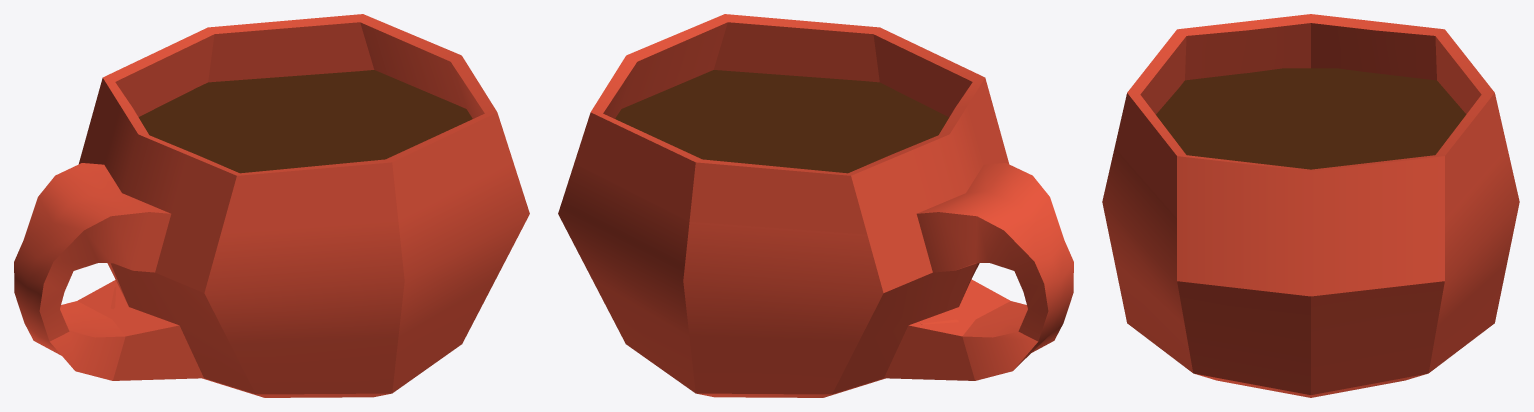
The model's file is (p) Red Coffee mug.fbx.
The picture shows the model from 3 angles, left to right: view 1: azimuth 30°, elevation 25°; view 2: azimuth 150°, elevation 25°; view 3: azimuth 270°, elevation 25°; orthographic projection.
Parts seen in each view (by area): view 1: Red Cup; view 2: Red Cup; view 3: Red Cup.
Boxes of the visible parts, <box> form: Red Cup: <box>14,14,529,397</box>; Red Cup: <box>558,14,1073,397</box>; Red Cup: <box>1102,14,1519,397</box>.
Bounding box in the file's own units: 596 × 302 × 462.
